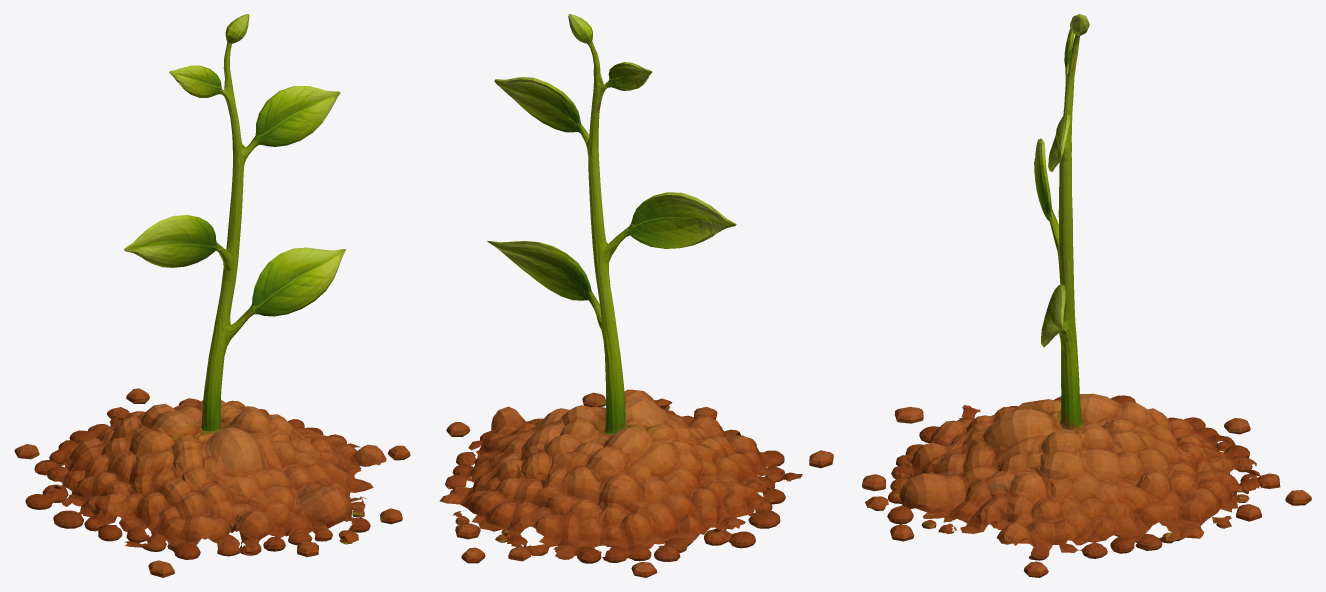
Rendered from flower stage 2.obj.
3 renders of one model, left to right at view 1: azimuth 30°, elevation 25°; view 2: azimuth 150°, elevation 25°; view 3: azimuth 270°, elevation 25°, orthographic. The views are drawn at different scales.
Parts seen in each view (by area): view 1: tripo_node_410e9243-5a77-4c33-9e1c-d985e4dd57ab; view 2: tripo_node_410e9243-5a77-4c33-9e1c-d985e4dd57ab; view 3: tripo_node_410e9243-5a77-4c33-9e1c-d985e4dd57ab.
Boxes of the visible parts, x1,y1,x2,y2 form: tripo_node_410e9243-5a77-4c33-9e1c-d985e4dd57ab: (14,14,410,577); tripo_node_410e9243-5a77-4c33-9e1c-d985e4dd57ab: (439,14,833,577); tripo_node_410e9243-5a77-4c33-9e1c-d985e4dd57ab: (862,14,1311,577).
Size of the model in its own units: 0.7723 by 0.9951 by 0.8282.
